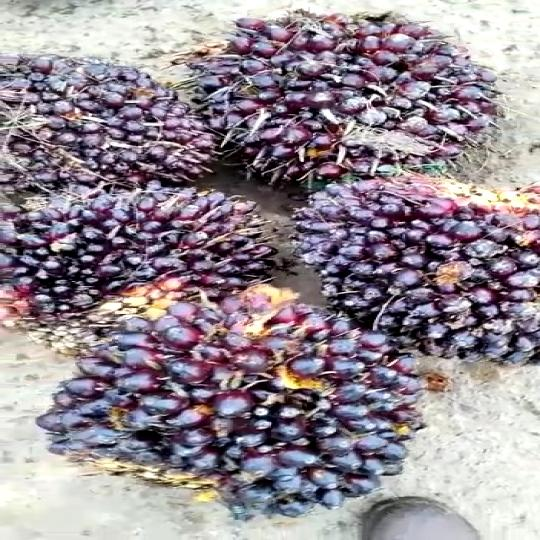kurang masak: (43, 280, 431, 518), (166, 0, 493, 173), (283, 174, 540, 367), (0, 197, 264, 332), (0, 56, 193, 174)
